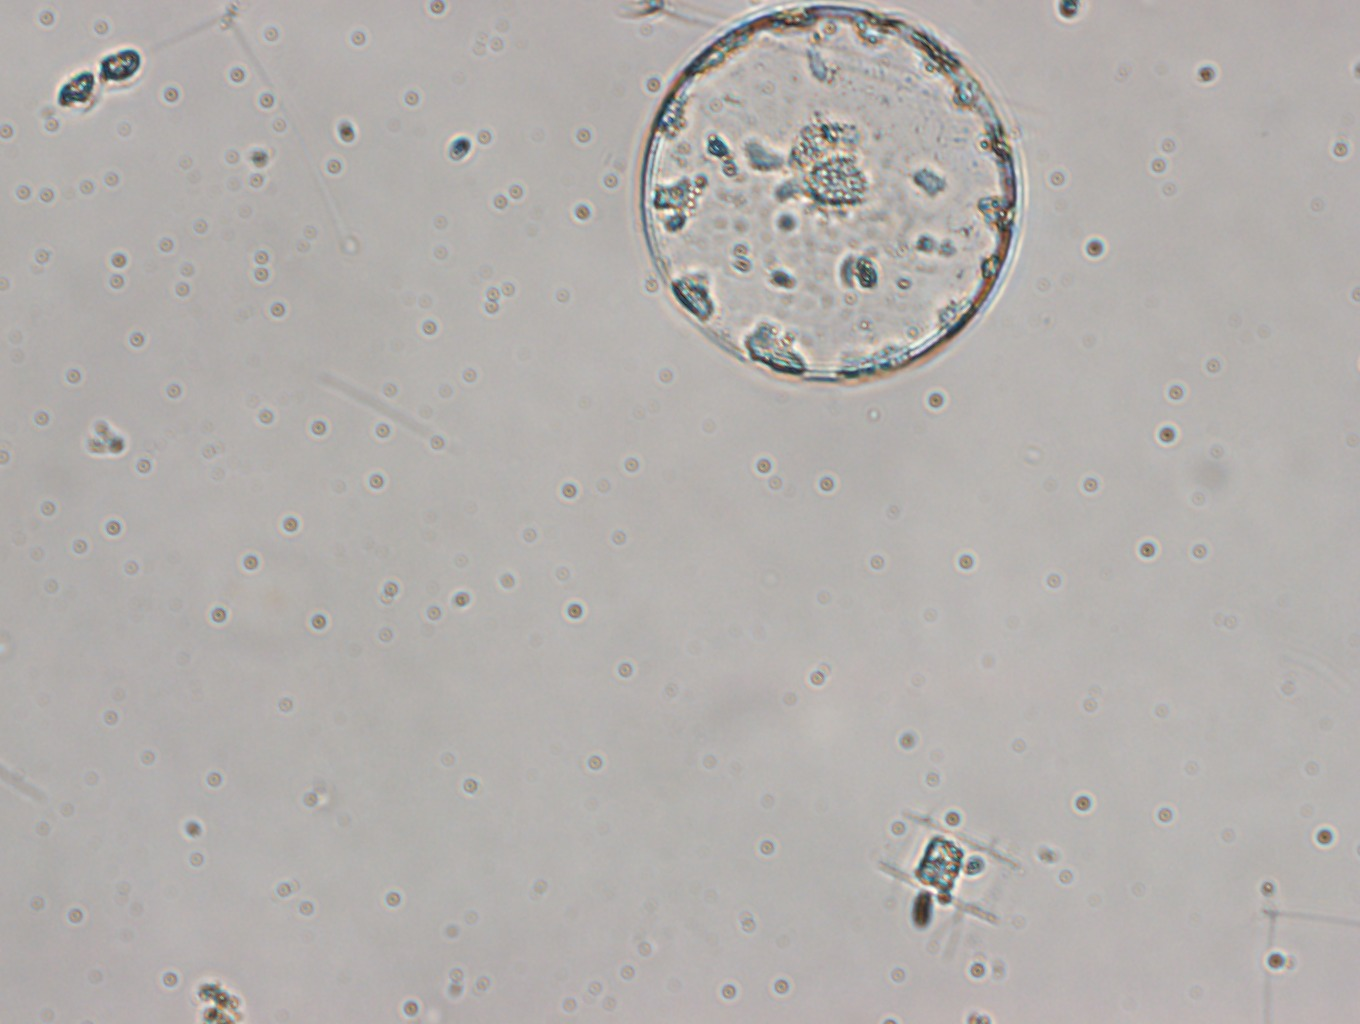coscinodiscus: (635, 1, 1027, 385)
